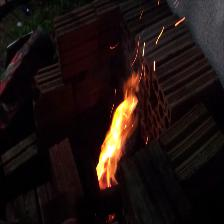fire: (85, 31, 152, 211)
